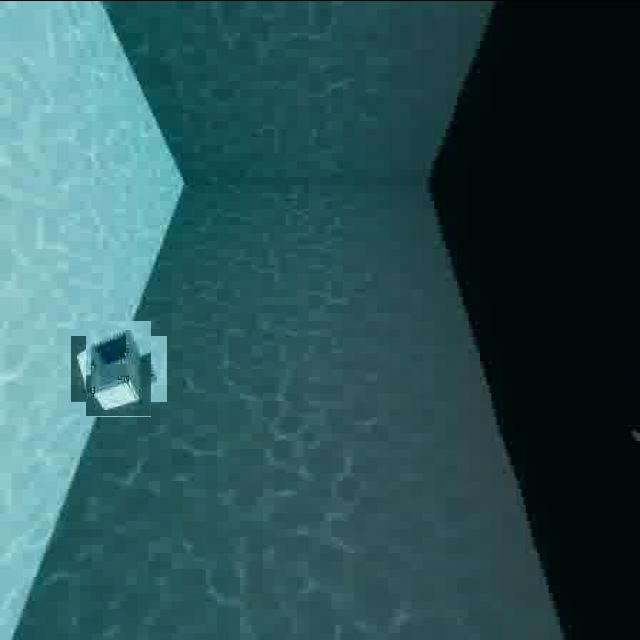Docking Station: (78, 328, 159, 408)
